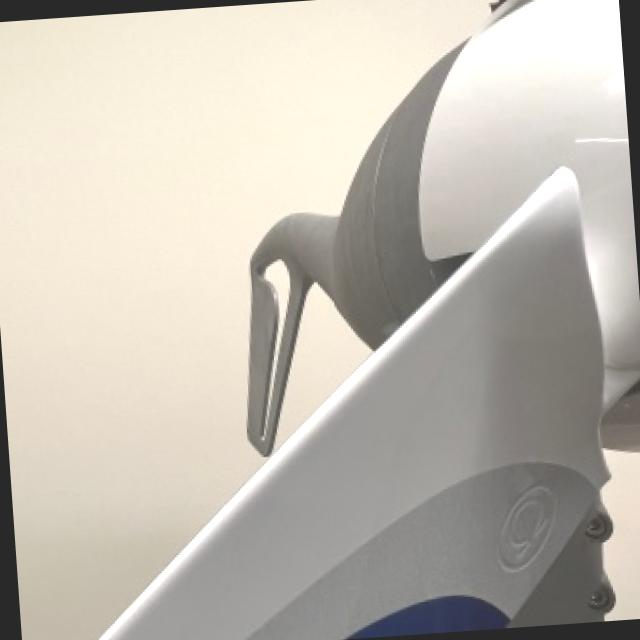healthy: (99, 0, 640, 640)
